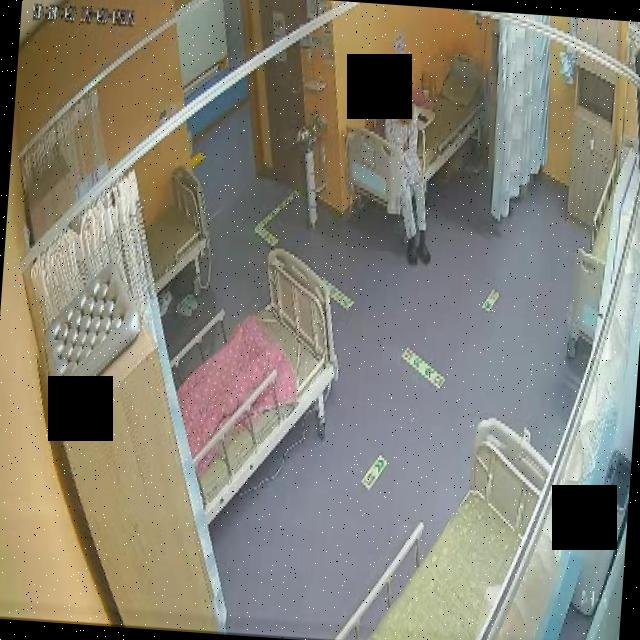bed: (334, 405, 554, 640), (168, 244, 341, 526), (342, 47, 489, 219), (140, 165, 214, 298)
patient: (367, 92, 443, 266)
sit: (367, 92, 444, 266)
